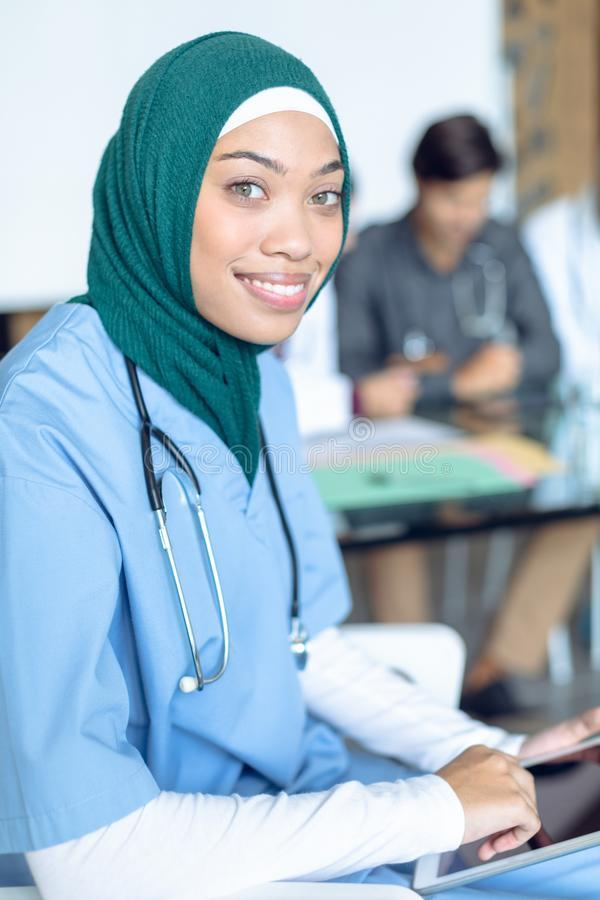No Mask: (151, 44, 406, 484), (417, 142, 534, 300)
